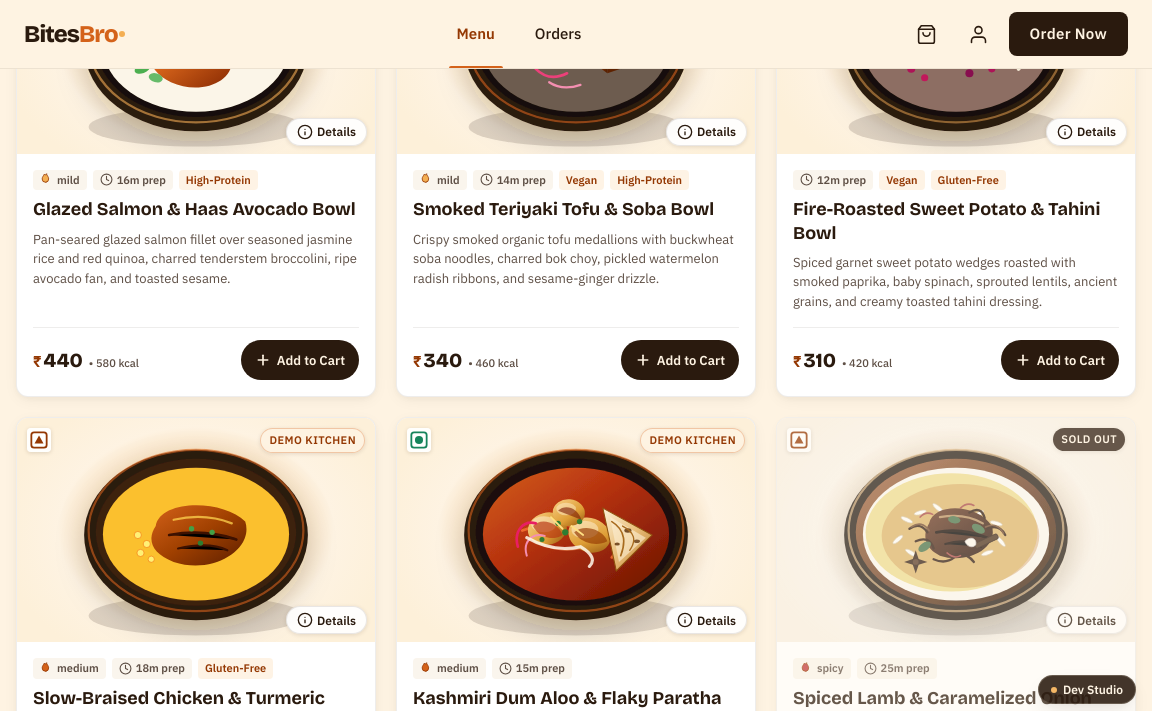
Test: App Shell Integration › clears cart and displays empty state when clicking Clear Cart
The width and height of the screenshot is (1152, 711).
(page scrolled)
// Add dish
Click the button "Add to Cart" in the row of "580": (300, 360) top-left (241, 340), bottom-right (359, 380)
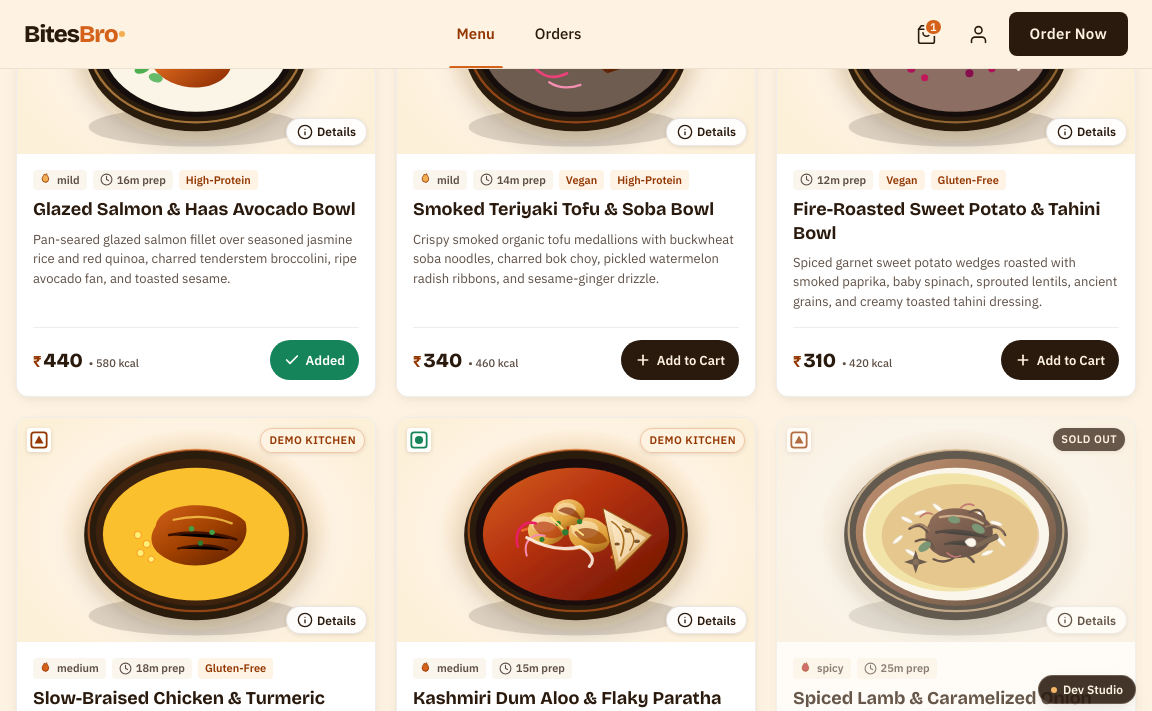
// Navigate to Cart
Click the link named "View cart": (929, 31) top-left (916, 18), bottom-right (943, 44)
(page scrolled)
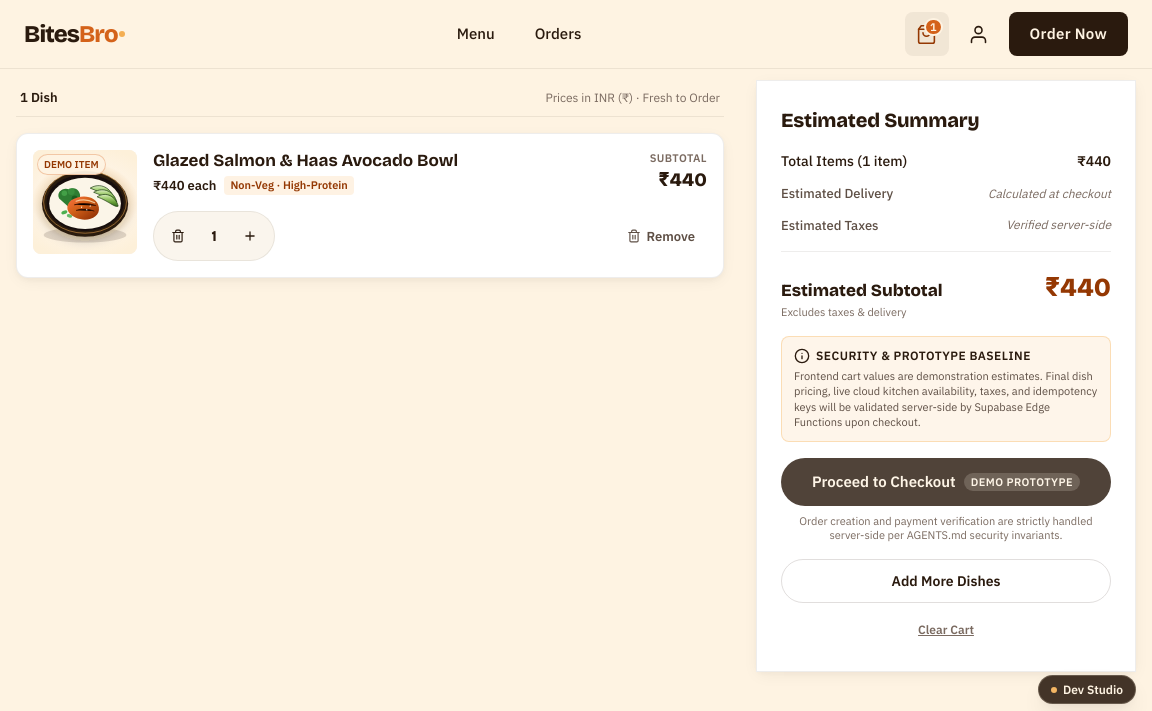
// Click "Clear Cart"
Click the button with aria-label "Clear all items from cart": (946, 629) top-left (781, 611), bottom-right (1111, 647)
(page scrolled)
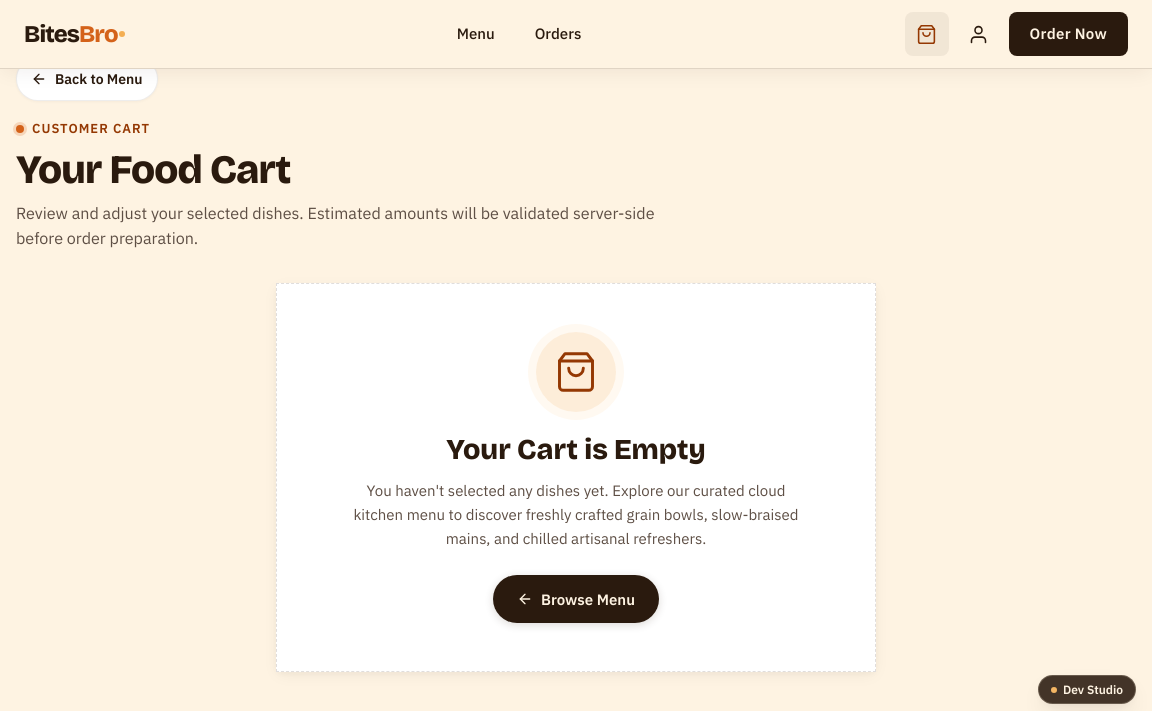
Result: the heading "Your Cart is Empty" is shown at top-left (446, 428), bottom-right (706, 471)
